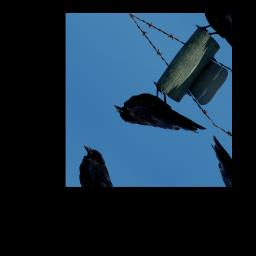Crow: (110, 68, 208, 169)
